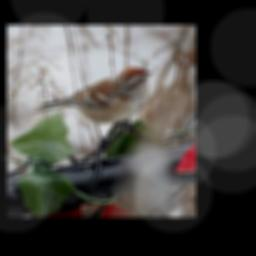Sparrow: (32, 66, 152, 151)
